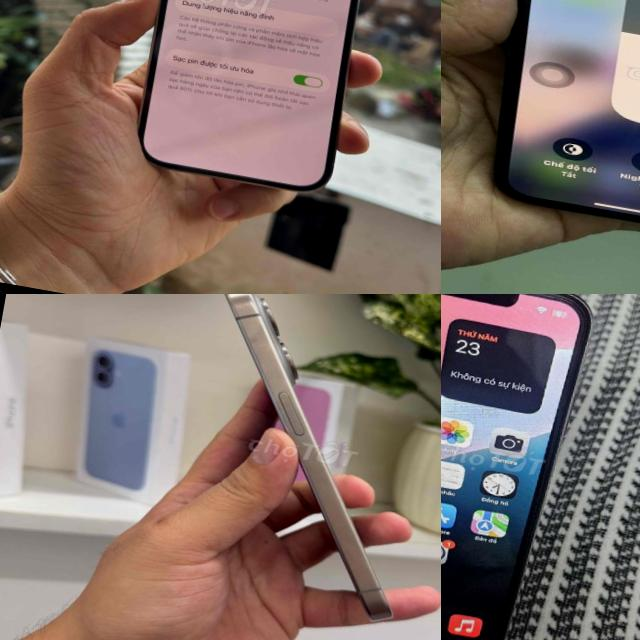gen_14: (125, 0, 385, 211)
gen_15: (158, 294, 441, 636)
gen_x_xs: (441, 294, 606, 640), (461, 0, 640, 261)
